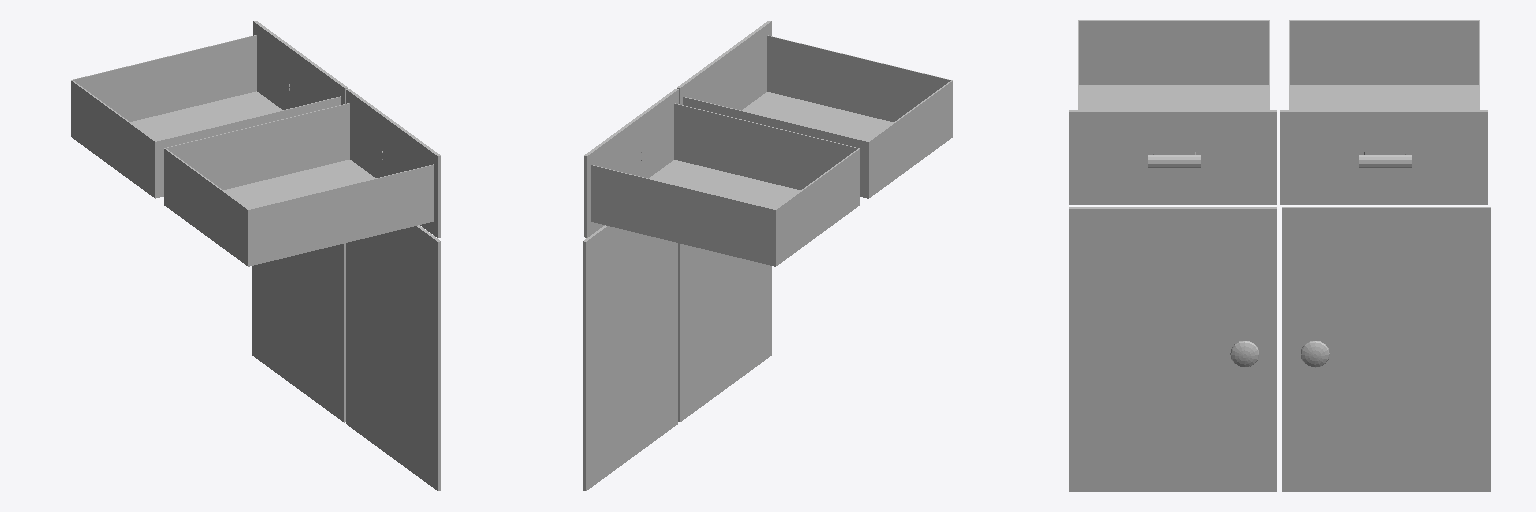
URDF robot description (my_urdf):
<?xml version='1.0' encoding='utf-8'?>
<robot name="my_urdf"><link name="base_link"><visual><origin xyz="0 0 0" rpy="0.0 0.0 0.0" /><material name="white"><color rgba="0.8 0.8 0.8 1" /></material><geometry><mesh filename="../meshes/cabinet.obj" scale="1 1 1" /></geometry></visual><collision><origin xyz="0 0 0" rpy="0.0 0.0 0.0" /><geometry><mesh filename="../meshes/cabinet.obj" scale="1 1 1" /></geometry></collision><inertial><mass value="1" /><inertia ixx="1e-4" ixy="0" ixz="0" iyy="1e-4" iyz="0" izz="1e-4" /></inertial></link><link name="drawer0"><visual><origin xyz="0 0 0" rpy="0 0 0" /><material name="white"><color rgba="0.8 0.8 0.8 1" /></material><geometry><mesh filename="../meshes/parts/drawer.obj" scale="1 1.98 0.98" /></geometry></visual><collision><origin xyz="0 0 0" rpy="0 0 0" /><geometry><mesh filename="../meshes/parts/drawer.obj" scale="1 1.98 0.98" /></geometry></collision><inertial><mass value="0.2" /><inertia ixx="1e-4" ixy="0" ixz="0" iyy="1e-4" iyz="0" izz="1e-4" /></inertial></link><joint name="drawer0_to_base_link" type="prismatic"><axis xyz="1 0 0" /><limit effort="5" lower="0" upper="0.4" velocity="2.283" /><origin xyz="0 0.5 0.75" rpy="0.0 0.0 0.0" /><parent link="base_link" /><child link="drawer0" /></joint><link name="drawer1"><visual><origin xyz="0 0 0" rpy="0 0 0" /><material name="white"><color rgba="0.8 0.8 0.8 1" /></material><geometry><mesh filename="../meshes/parts/drawer.obj" scale="1 1.98 0.98" /></geometry></visual><collision><origin xyz="0 0 0" rpy="0 0 0" /><geometry><mesh filename="../meshes/parts/drawer.obj" scale="1 1.98 0.98" /></geometry></collision><inertial><mass value="0.2" /><inertia ixx="1e-4" ixy="0" ixz="0" iyy="1e-4" iyz="0" izz="1e-4" /></inertial></link><joint name="drawer1_to_base_link" type="prismatic"><axis xyz="1 0 0" /><limit effort="5" lower="0" upper="0.4" velocity="2.283" /><origin xyz="0 0.0 0.75" rpy="0.0 0.0 0.0" /><parent link="base_link" /><child link="drawer1" /></joint><link name="doorL2"><visual><origin xyz="0 0 0" rpy="0 0 0" /><material name="white"><color rgba="0.8 0.8 0.8 1" /></material><geometry><mesh filename="../meshes/parts/doorL.obj" scale="1 1.99 2.99" /></geometry></visual><collision><origin xyz="0 0 0" rpy="0 0 0" /><geometry><mesh filename="../meshes/parts/doorL.obj" scale="1 1.99 2.99" /></geometry></collision><inertial><mass value="0.2" /><inertia ixx="1e-4" ixy="0" ixz="0" iyy="1e-4" iyz="0" izz="1e-4" /></inertial></link><joint name="doorL2_to_base_link" type="revolute"><axis xyz="0 0 1" /><limit effort="5" lower="-1.57" upper="0" velocity="2.283" /><origin xyz="0 0.0 0.0" rpy="0.0 0.0 0.0" /><parent link="base_link" /><child link="doorL2" /></joint><link name="doorR3"><visual><origin xyz="0 0 0" rpy="0 0 0" /><material name="white"><color rgba="0.8 0.8 0.8 1" /></material><geometry><mesh filename="../meshes/parts/doorR.obj" scale="1 1.99 2.99" /></geometry></visual><collision><origin xyz="0 0 0" rpy="0 0 0" /><geometry><mesh filename="../meshes/parts/doorR.obj" scale="1 1.99 2.99" /></geometry></collision><inertial><mass value="0.2" /><inertia ixx="1e-4" ixy="0" ixz="0" iyy="1e-4" iyz="0" izz="1e-4" /></inertial></link><joint name="doorR3_to_base_link" type="revolute"><axis xyz="0 0 1" /><limit effort="5" lower="0" upper="1.57" velocity="2.283" /><origin xyz="0 1.0 0.0" rpy="-0.0 -0.0 -0.0" /><parent link="base_link" /><child link="doorR3" /></joint><link name="handle4"><visual><origin xyz="0 0 0" rpy="0 0 0" /><material name="white"><color rgba="0.8 0.8 0.8 1" /></material><geometry><mesh filename="../meshes/parts/handle.obj" scale="1 1 1" /></geometry></visual><collision><origin xyz="0 0 0" rpy="0 0 0" /><geometry><mesh filename="../meshes/parts/handle.obj" scale="1 1 1" /></geometry></collision><inertial><mass value="0.2" /><inertia ixx="1e-4" ixy="0" ixz="0" iyy="1e-4" iyz="0" izz="1e-4" /></inertial></link><joint name="handle4_to_drawer0" type="fixed"><axis xyz="0 0 1" /><limit effort="5" lower="0" upper="1.57" velocity="2.283" /><origin xyz="0 0.25 0.125" rpy="1.5707963267948963 0.0 0.0" /><parent link="drawer0" /><child link="handle4" /></joint><link name="handle5"><visual><origin xyz="0 0 0" rpy="0 0 0" /><material name="white"><color rgba="0.8 0.8 0.8 1" /></material><geometry><mesh filename="../meshes/parts/handle.obj" scale="1 1 1" /></geometry></visual><collision><origin xyz="0 0 0" rpy="0 0 0" /><geometry><mesh filename="../meshes/parts/handle.obj" scale="1 1 1" /></geometry></collision><inertial><mass value="0.2" /><inertia ixx="1e-4" ixy="0" ixz="0" iyy="1e-4" iyz="0" izz="1e-4" /></inertial></link><joint name="handle5_to_drawer1" type="fixed"><axis xyz="0 0 1" /><limit effort="5" lower="0" upper="1.57" velocity="2.283" /><origin xyz="0 0.25 0.125" rpy="1.5707963267948963 0.0 0.0" /><parent link="drawer1" /><child link="handle5" /></joint><link name="knob6"><visual><origin xyz="0 0 0" rpy="0 0 0" /><material name="white"><color rgba="0.8 0.8 0.8 1" /></material><geometry><mesh filename="../meshes/parts/knob.obj" scale="1 1 1" /></geometry></visual><collision><origin xyz="0 0 0" rpy="0 0 0" /><geometry><mesh filename="../meshes/parts/knob.obj" scale="1 1 1" /></geometry></collision><inertial><mass value="0.2" /><inertia ixx="1e-4" ixy="0" ixz="0" iyy="1e-4" iyz="0" izz="1e-4" /></inertial></link><joint name="knob6_to_doorL2" type="fixed"><axis xyz="1 0 0" /><limit effort="5" lower="0" upper="1.57" velocity="2.283" /><origin xyz="0 0.4166666666666667 0.375" rpy="0.0 0.0 0.0" /><parent link="doorL2" /><child link="knob6" /></joint><link name="knob7"><visual><origin xyz="0 0 0" rpy="0 0 0" /><material name="white"><color rgba="0.8 0.8 0.8 1" /></material><geometry><mesh filename="../meshes/parts/knob.obj" scale="1 1 1" /></geometry></visual><collision><origin xyz="0 0 0" rpy="0 0 0" /><geometry><mesh filename="../meshes/parts/knob.obj" scale="1 1 1" /></geometry></collision><inertial><mass value="0.2" /><inertia ixx="1e-4" ixy="0" ixz="0" iyy="1e-4" iyz="0" izz="1e-4" /></inertial></link><joint name="knob7_to_doorR3" type="fixed"><axis xyz="1 0 0" /><limit effort="5" lower="0" upper="1.57" velocity="2.283" /><origin xyz="0 -0.4166666666666667 0.375" rpy="0.0 0.0 0.0" /><parent link="doorR3" /><child link="knob7" /></joint></robot>

--- Render facts (derived) ---
3 views of the same robot in one strip: view 1: azimuth 30°, elevation 25°; view 2: azimuth 150°, elevation 25°; view 3: azimuth 270°, elevation 25° (orthographic).
Robot: my_urdf — 9 links, 8 joints (2 revolute, 2 prismatic, 4 fixed); root link base_link; default pose: all joints at 0.
Links seen in each view (by area): view 1: drawer1, drawer0, doorL2, doorR3; view 2: drawer0, drawer1, doorR3, doorL2; view 3: doorR3, doorL2, drawer1, drawer0, handle4, handle5, knob7, knob6.
Link boxes in pixels (x1=…): drawer1: x1=164, y1=89, x2=440, y2=266; drawer0: x1=71, y1=21, x2=347, y2=198; doorL2: x1=346, y1=225, x2=440, y2=490; doorR3: x1=252, y1=243, x2=345, y2=422; drawer0: x1=584, y1=89, x2=859, y2=266; drawer1: x1=677, y1=21, x2=952, y2=198; doorR3: x1=583, y1=225, x2=677, y2=490; doorL2: x1=678, y1=243, x2=771, y2=421; doorR3: x1=1282, y1=207, x2=1490, y2=491; doorL2: x1=1069, y1=207, x2=1276, y2=491; drawer1: x1=1069, y1=20, x2=1276, y2=204; drawer0: x1=1280, y1=20, x2=1487, y2=204; handle4: x1=1359, y1=152, x2=1411, y2=167; handle5: x1=1148, y1=152, x2=1200, y2=167; knob7: x1=1301, y1=341, x2=1329, y2=367; knob6: x1=1230, y1=341, x2=1258, y2=367.
Bounding box of the posed robot: 0.6304 × 1 × 0.9929 m (x, y, z).
Meshes: 6 distinct files referenced, 8 mesh visuals loaded (5 OBJ); not drawn: 1 (reference not matched to a file when rendering).